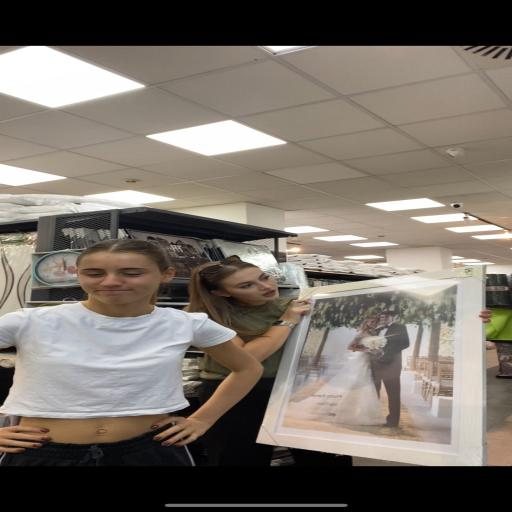masa: (76, 251, 165, 305)
